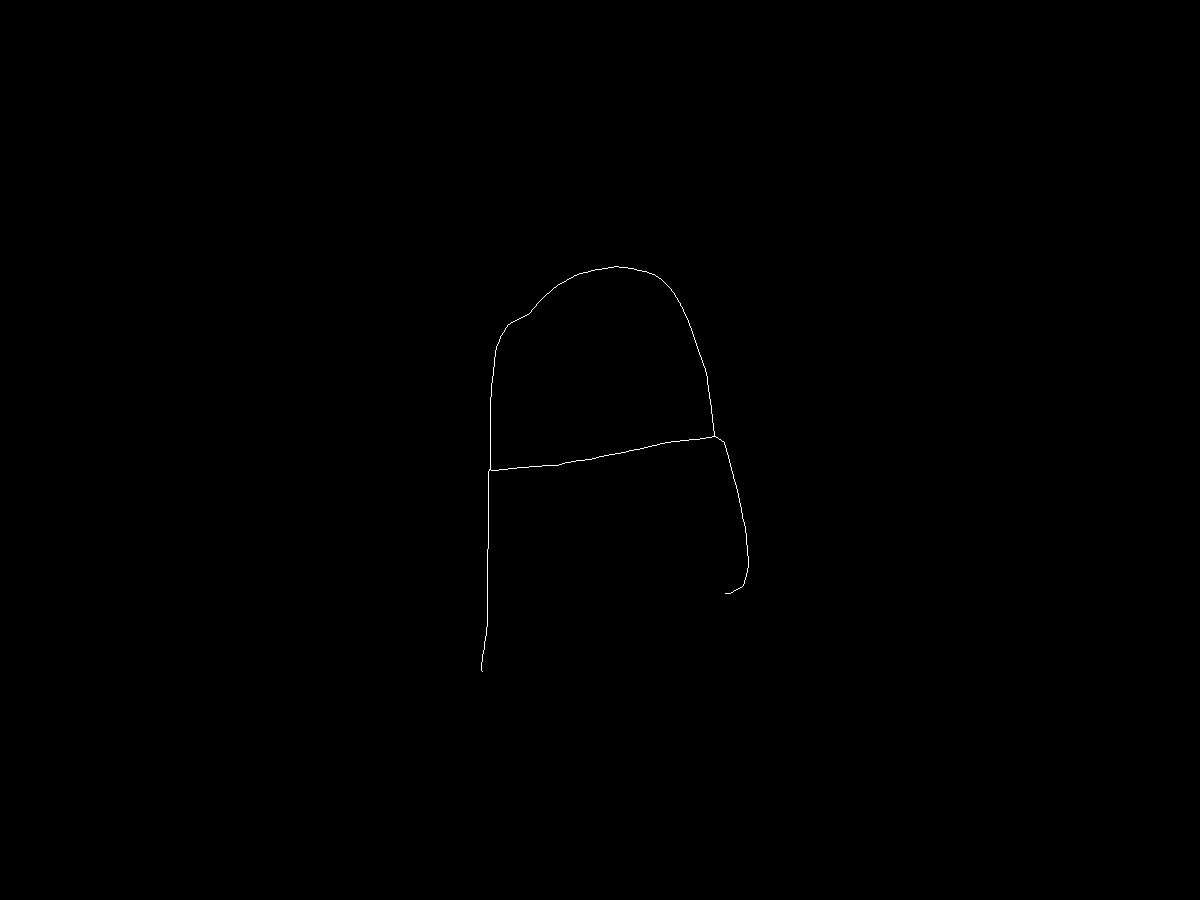dian1: (570, 261, 598, 289)
dian2: (484, 466, 501, 483)
dian3: (471, 662, 490, 681)
dian4: (703, 428, 721, 446)
dian5: (737, 574, 752, 589)
